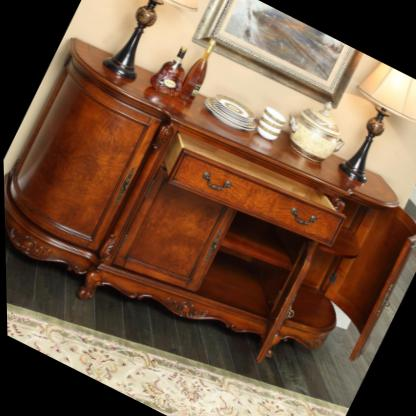Cupboard: (3, 40, 416, 363)
